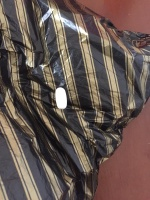Centik Buskopan: (54, 87, 68, 110)
